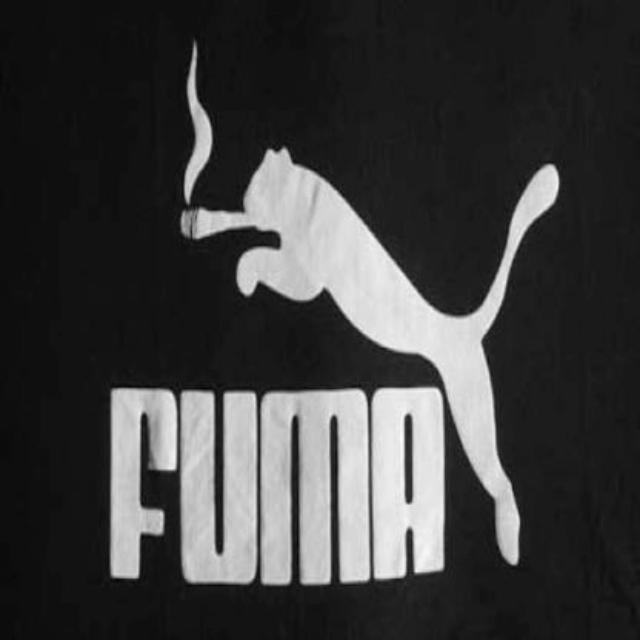PUMA_fake: (80, 11, 572, 612)
